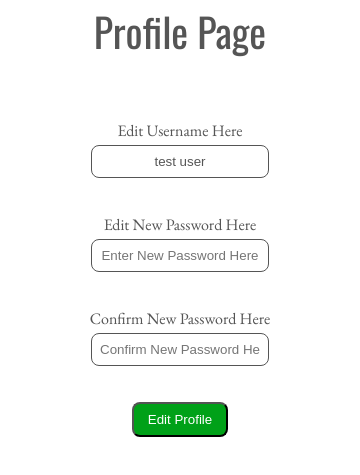
Test: <BandleaderProfilePage/> › Passwords not matching
Type "new password" into the password field with test id "Edit New Password HereTextInput" at point(180, 255), box [91,239,269,272]
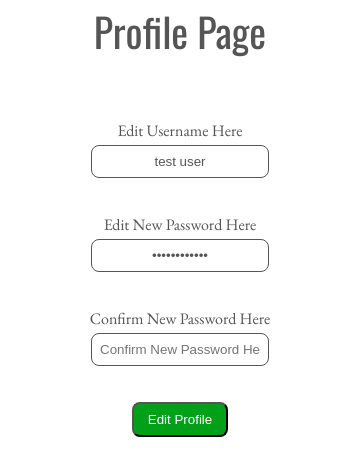
Type "new password not here" into the password field with test id "Confirm New Password HereTextInput" at point(180, 349), box [91,333,269,366]
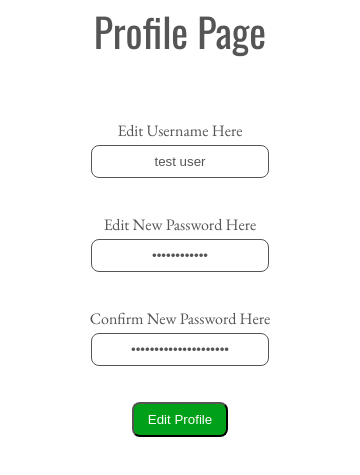
Click the button with test id "Edit ProfileButton" at point(180, 419), box [132,402,228,437]
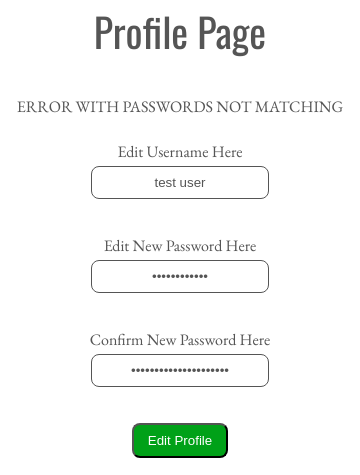
Expected: the text "ERROR WITH PASSWORDS NOT MATCHING" is shown, [17,96,343,117]
